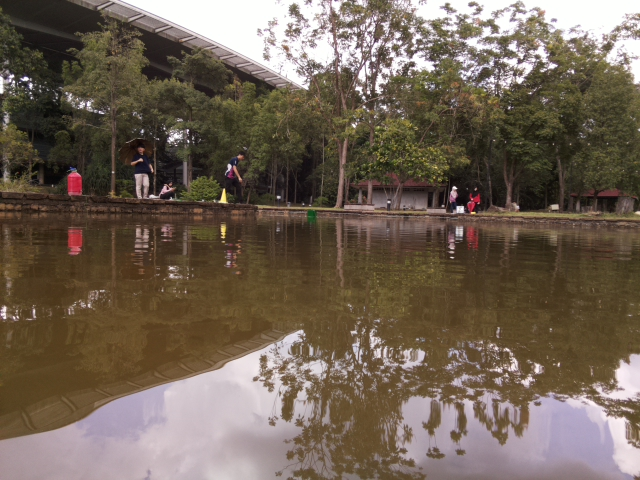checkpoint: (217, 187, 230, 204)
obstacle: (305, 209, 319, 217)
